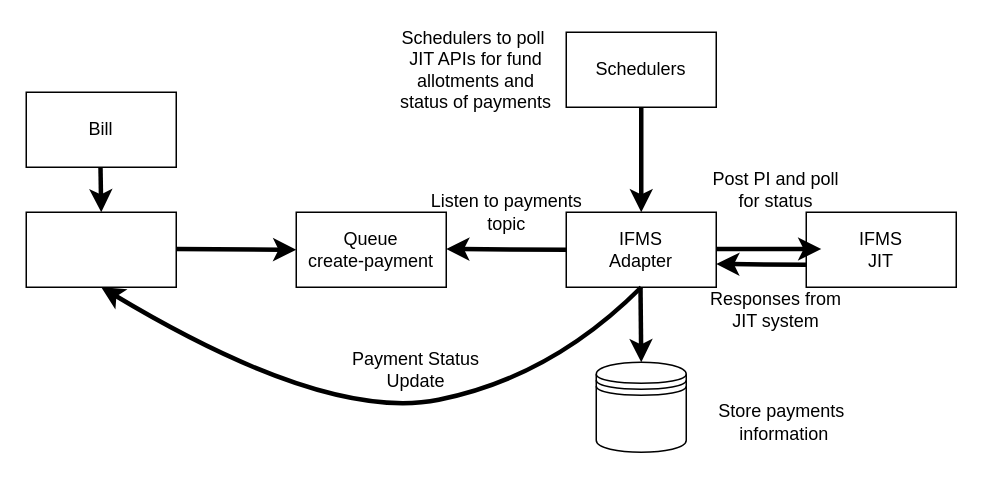
Some shapes in this 983 by 479 pixel diagram are drawn without their labels. Each missing label, with the centre of its shape:
"DB" belongs at pixel 640 406.
"Payment Advice" belongs at pixel 100 249.
